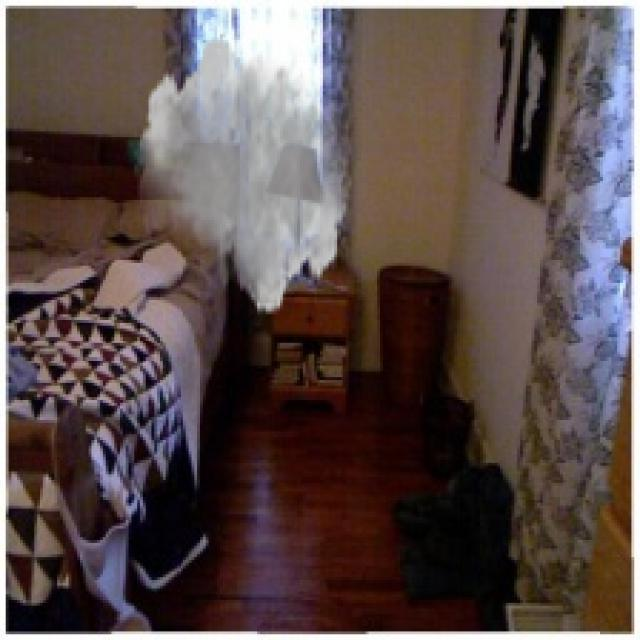Smoke: (134, 34, 352, 317)
